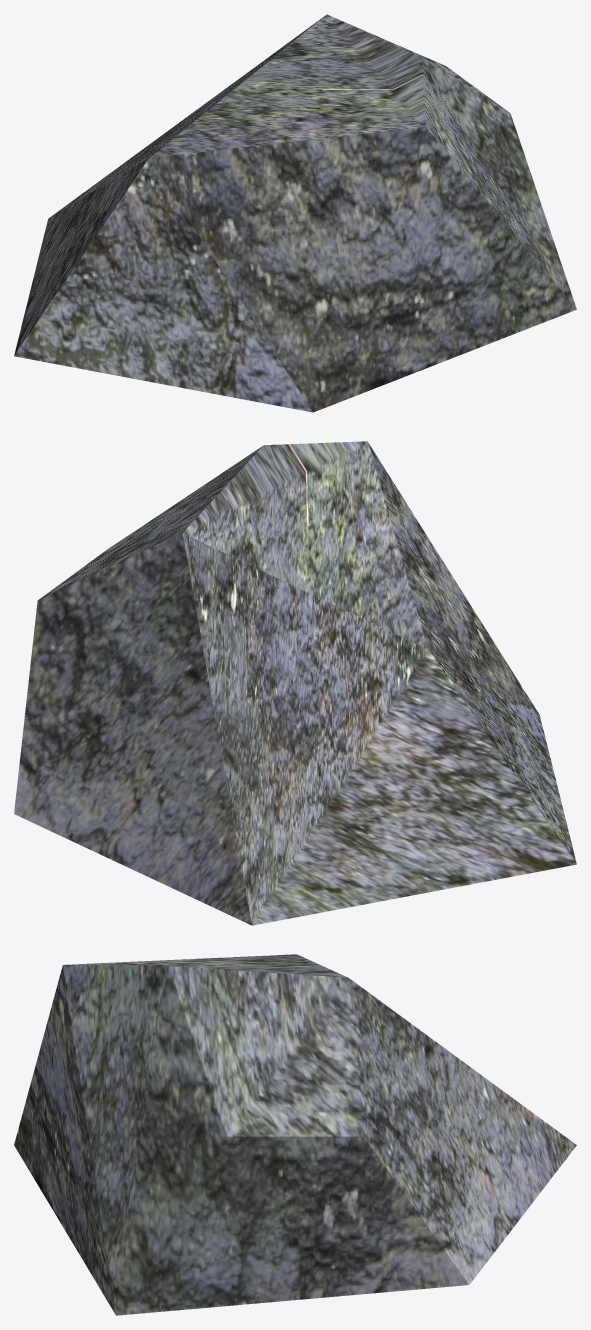
Rendered from lightColorRock.fbx.
The picture shows the model from 3 angles, top to bottom: view 1: azimuth 30°, elevation 25°; view 2: azimuth 150°, elevation 25°; view 3: azimuth 270°, elevation 25°; orthographic projection. The views are drawn at different scales.
Parts seen in each view (by area): view 1: Icosphere; view 2: Icosphere; view 3: Icosphere.
Boxes of the visible parts, x1,y1,x2,y2 form: Icosphere: [14, 14, 576, 412]; Icosphere: [14, 441, 576, 925]; Icosphere: [14, 954, 576, 1315].
Size of the model in its own units: 82.11 by 43.55 by 78.73.
1 material, 1 textured.
